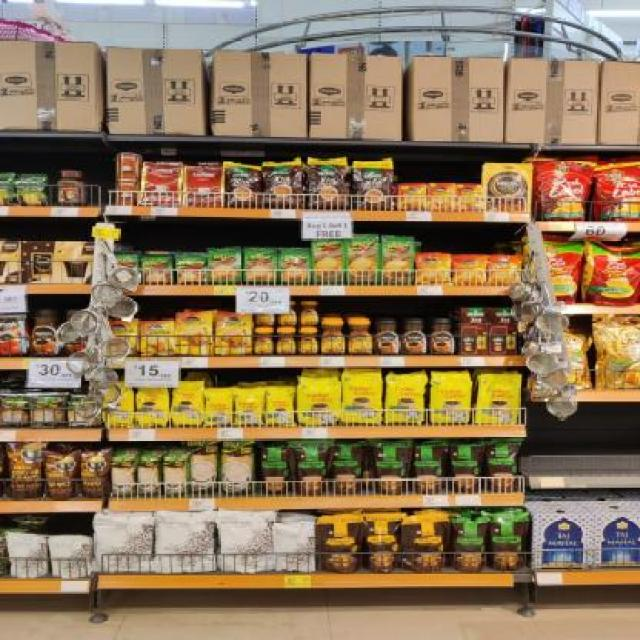Coffee: (175, 313, 213, 356), (215, 313, 253, 355), (33, 309, 61, 357), (139, 320, 175, 356), (0, 312, 28, 354), (108, 318, 138, 356), (400, 318, 428, 356), (416, 253, 450, 284), (489, 253, 520, 284), (347, 318, 373, 354), (320, 318, 346, 354), (454, 253, 484, 284), (429, 318, 454, 354), (375, 318, 399, 354), (254, 300, 275, 326), (255, 328, 274, 355), (279, 300, 298, 326), (299, 328, 318, 354), (277, 328, 295, 354), (302, 301, 321, 325)
